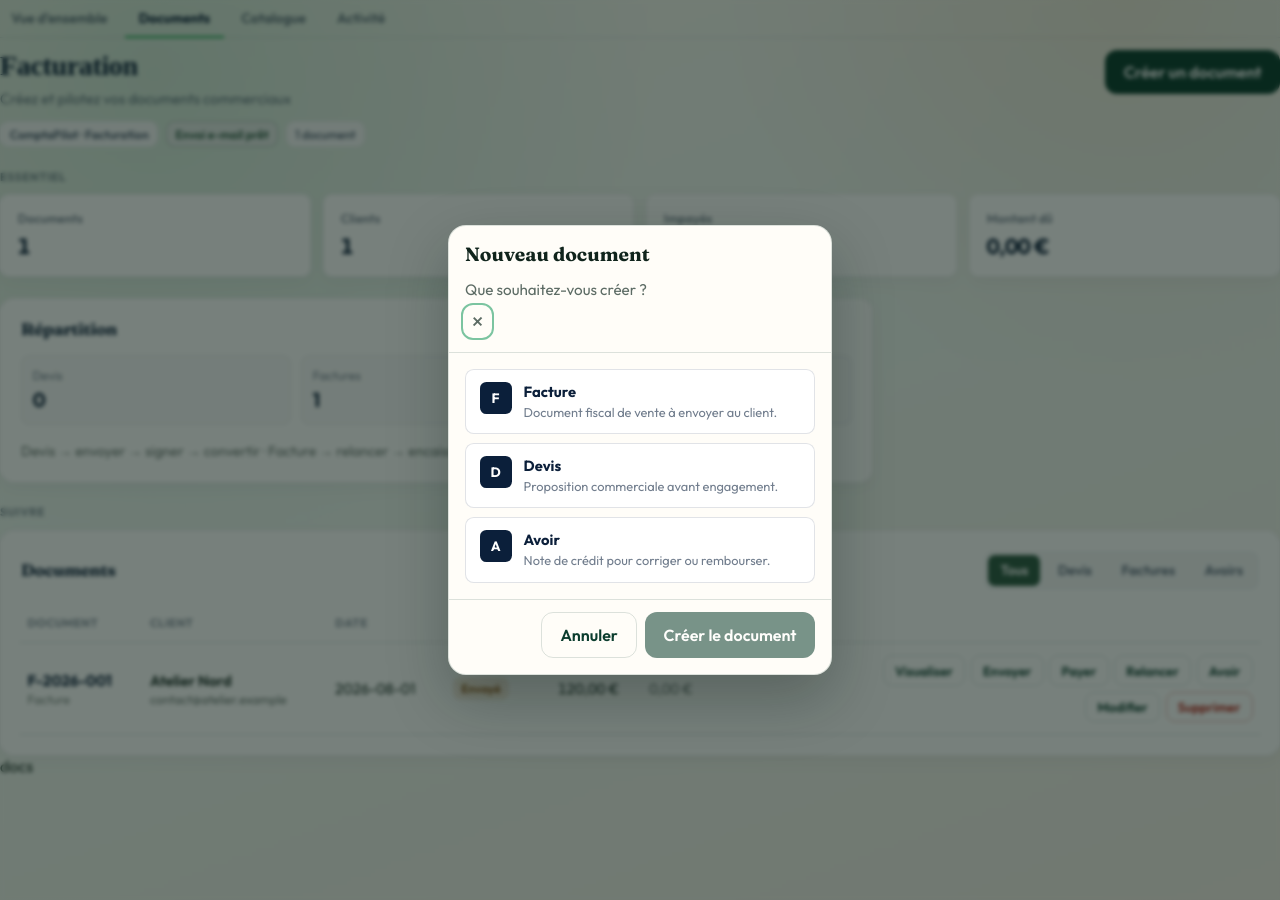
Scenario: MC11–MC20 Flux type → composer › MC13 — type → composer sans page /nouveau
The width and height of the screenshot is (1280, 900).
Step 1. Click the radio button labelled "F Facture Document fiscal de vente à envoyer au client." → (640, 401), box [465,369,815,434]
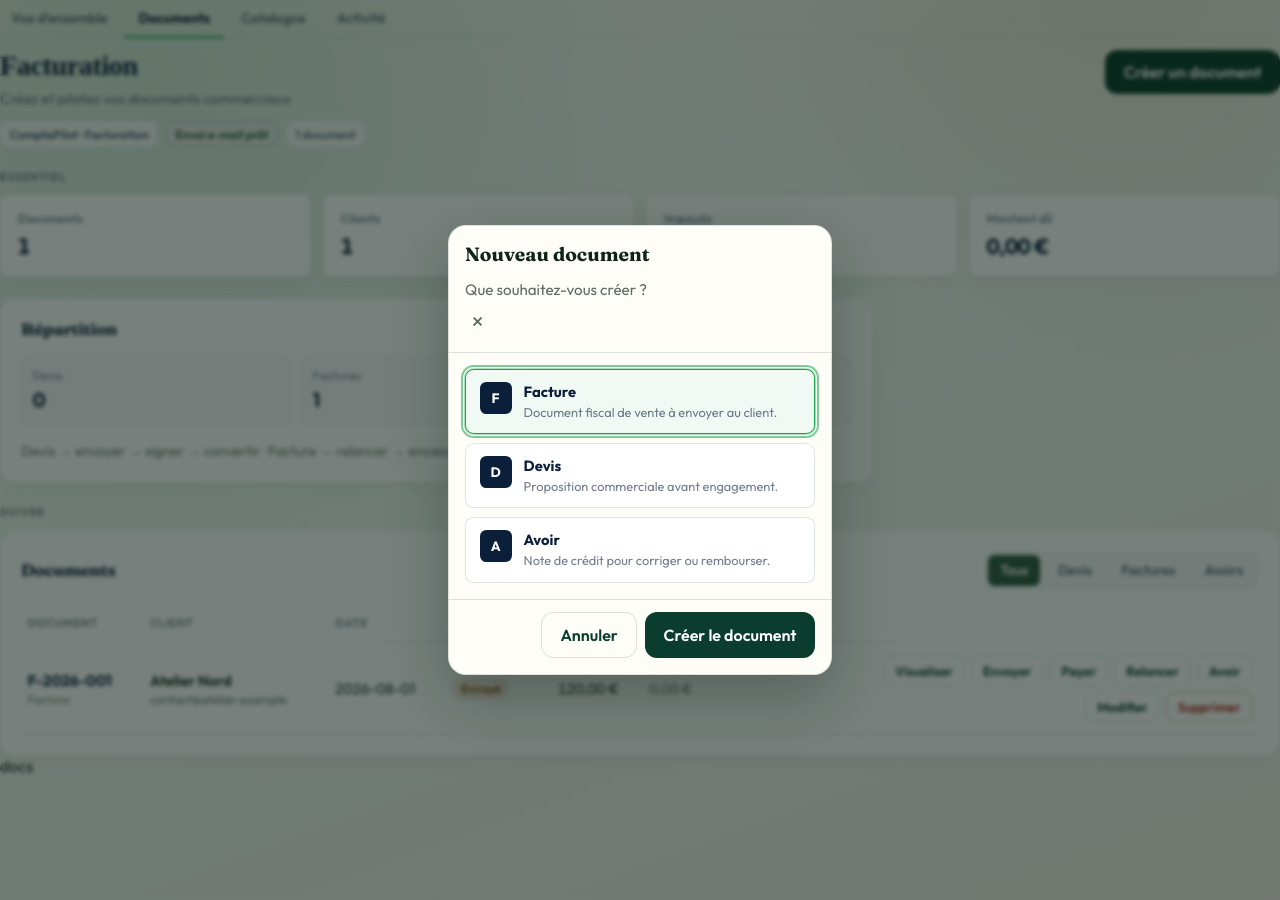
Step 2. Click the button "Créer le document" → (730, 635), box [645,612,815,658]
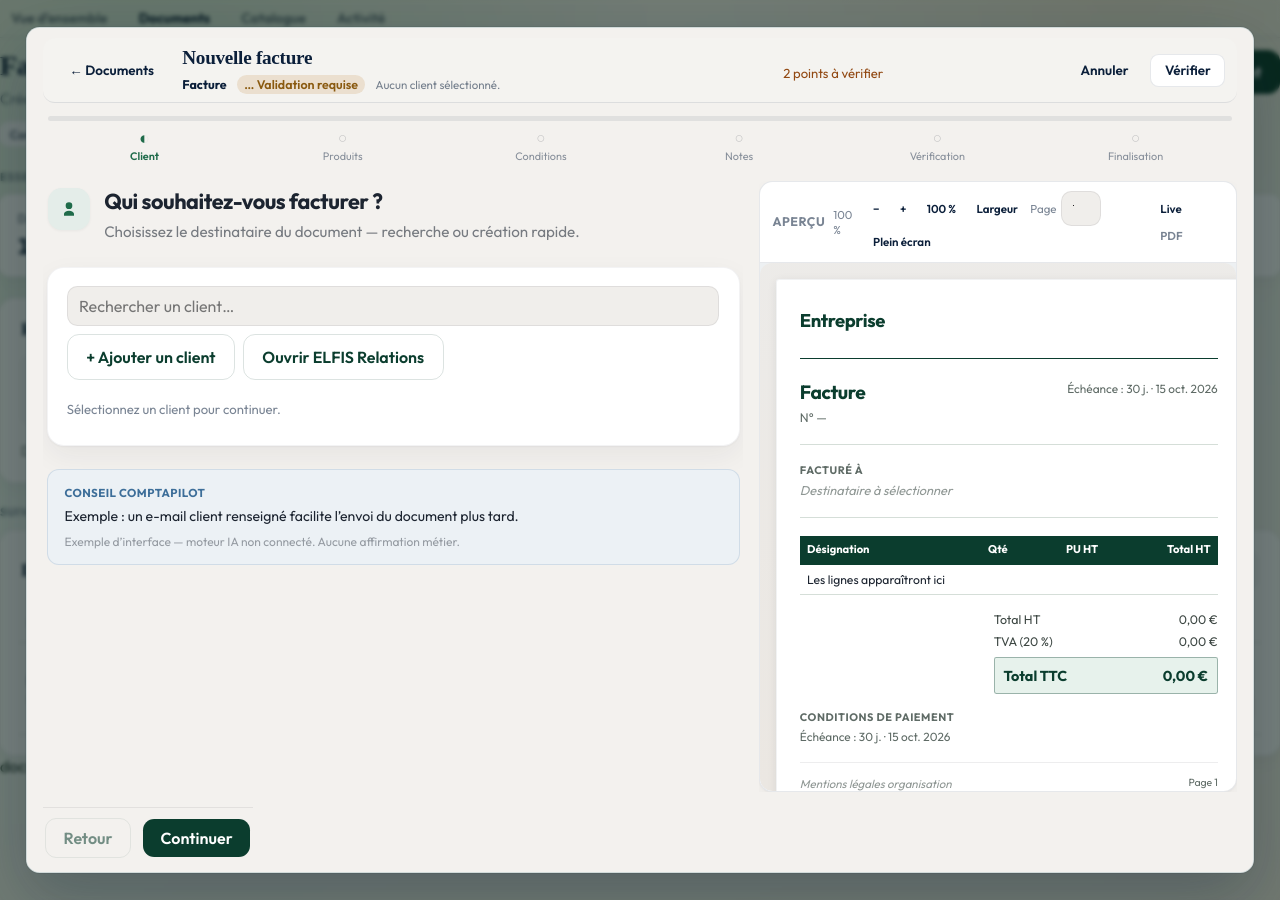
Check: the heading "Nouvelle facture" is shown, box [182,47,312,68]
